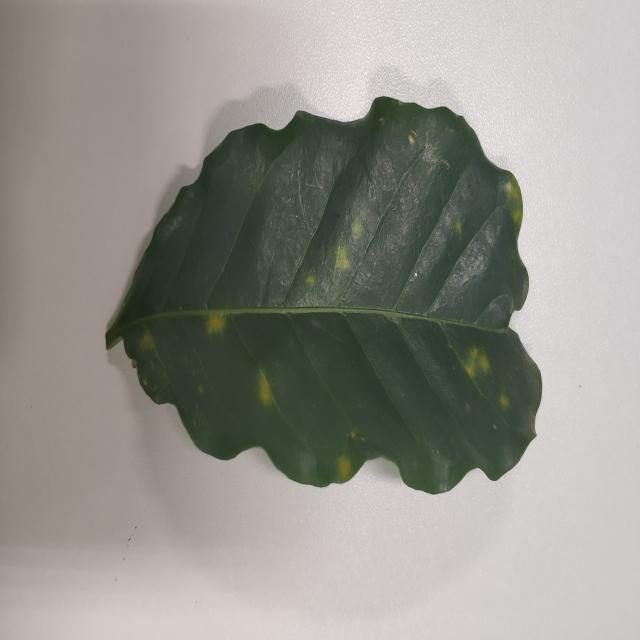Enfermedad-Roya: (104, 96, 543, 498)
